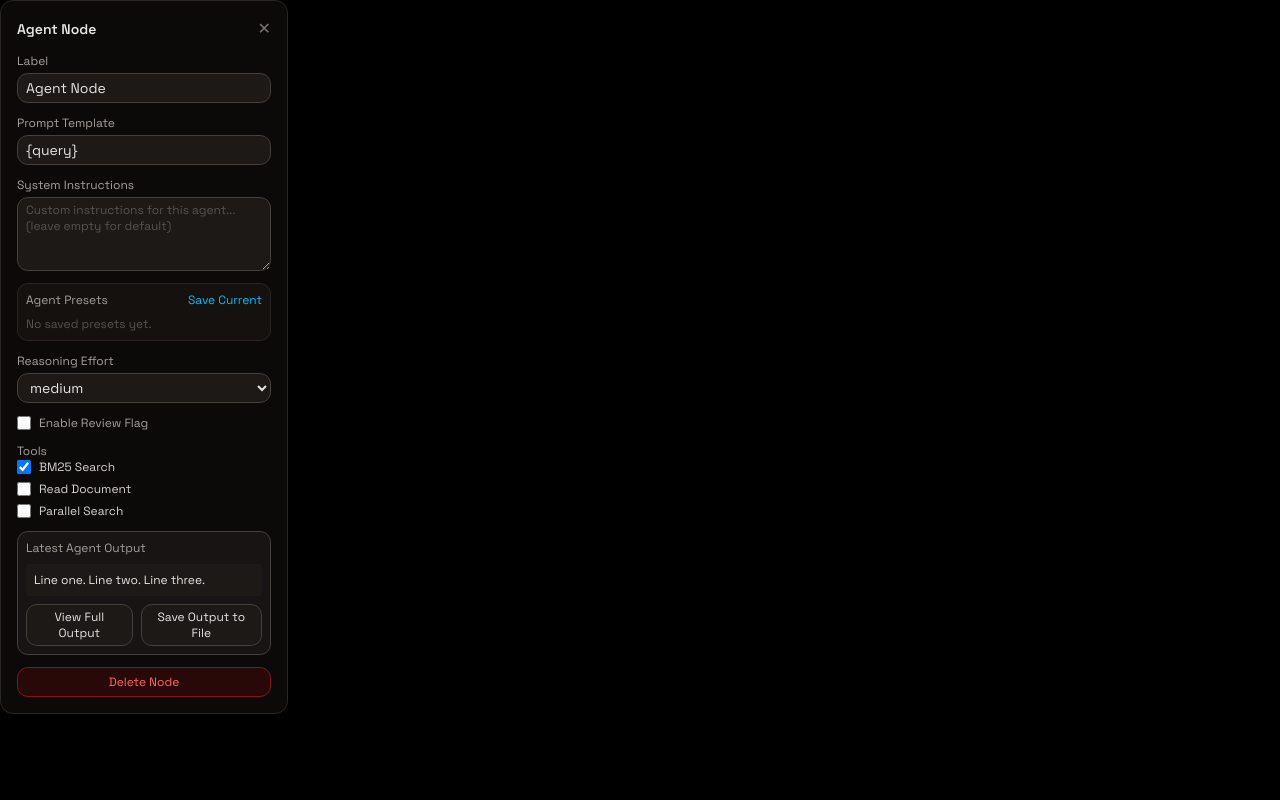
NodeConfigPanel agent output tools › opens a full-output dialog for agent node results
Expected: the dialog "Full Agent Output" is not shown
Click the button "View Full Output".
click(79, 625)  # box x1=26 y1=604 x2=133 y2=646
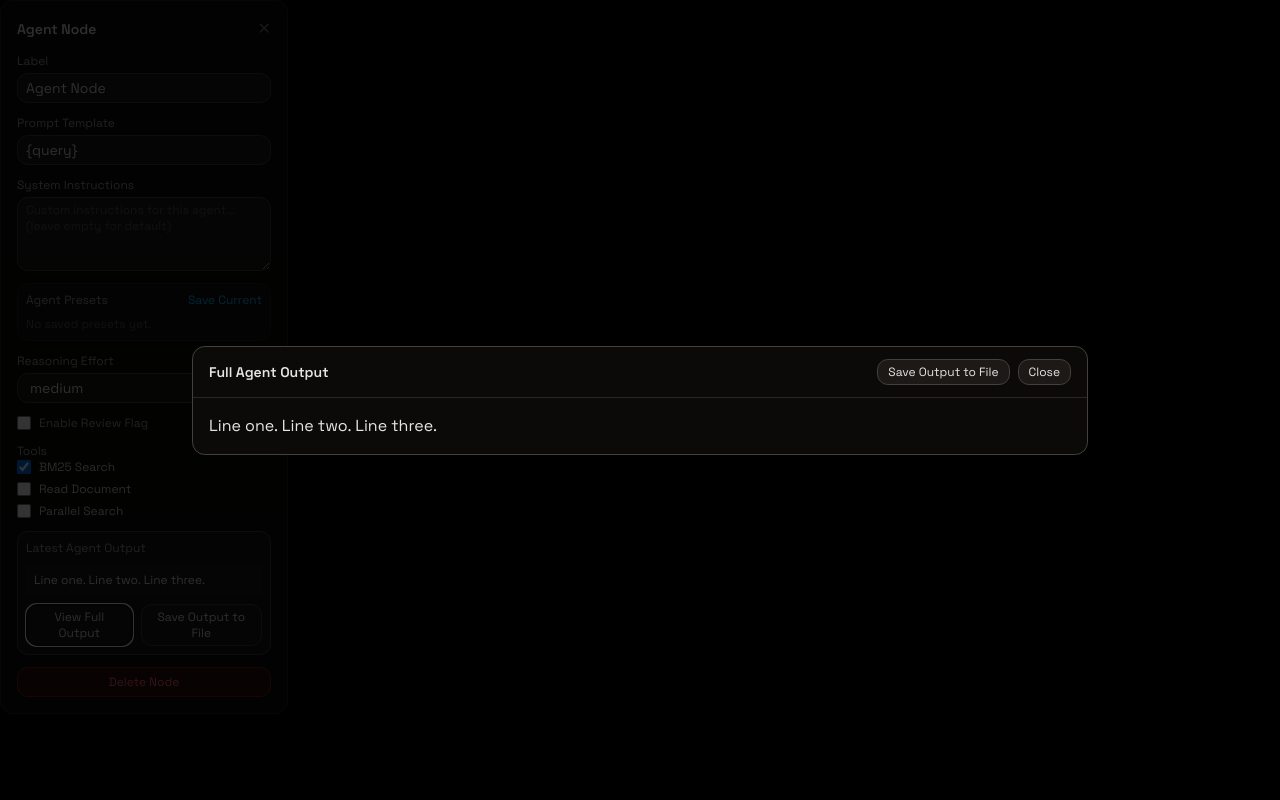
Now the dialog "Full Agent Output" is shown, box x1=192 y1=346 x2=1088 y2=454
